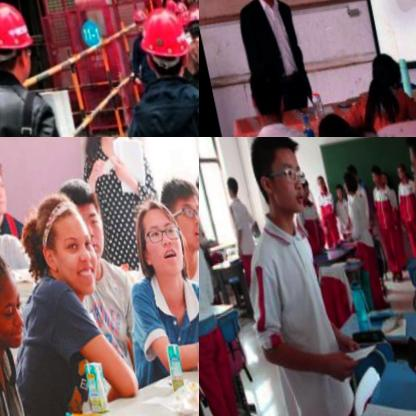head: (21, 184, 104, 301), (49, 170, 110, 266), (128, 189, 189, 281), (243, 137, 308, 217), (151, 161, 199, 250), (0, 227, 31, 357), (240, 53, 290, 126), (361, 41, 405, 95), (310, 127, 365, 137), (337, 167, 356, 192), (222, 174, 239, 198), (368, 159, 382, 184), (296, 173, 310, 195), (393, 157, 407, 179), (328, 178, 342, 198), (313, 170, 325, 189), (376, 168, 388, 185), (345, 161, 356, 175)
helmet: (134, 1, 195, 77), (0, 0, 43, 90), (177, 0, 199, 49), (128, 2, 151, 37)
